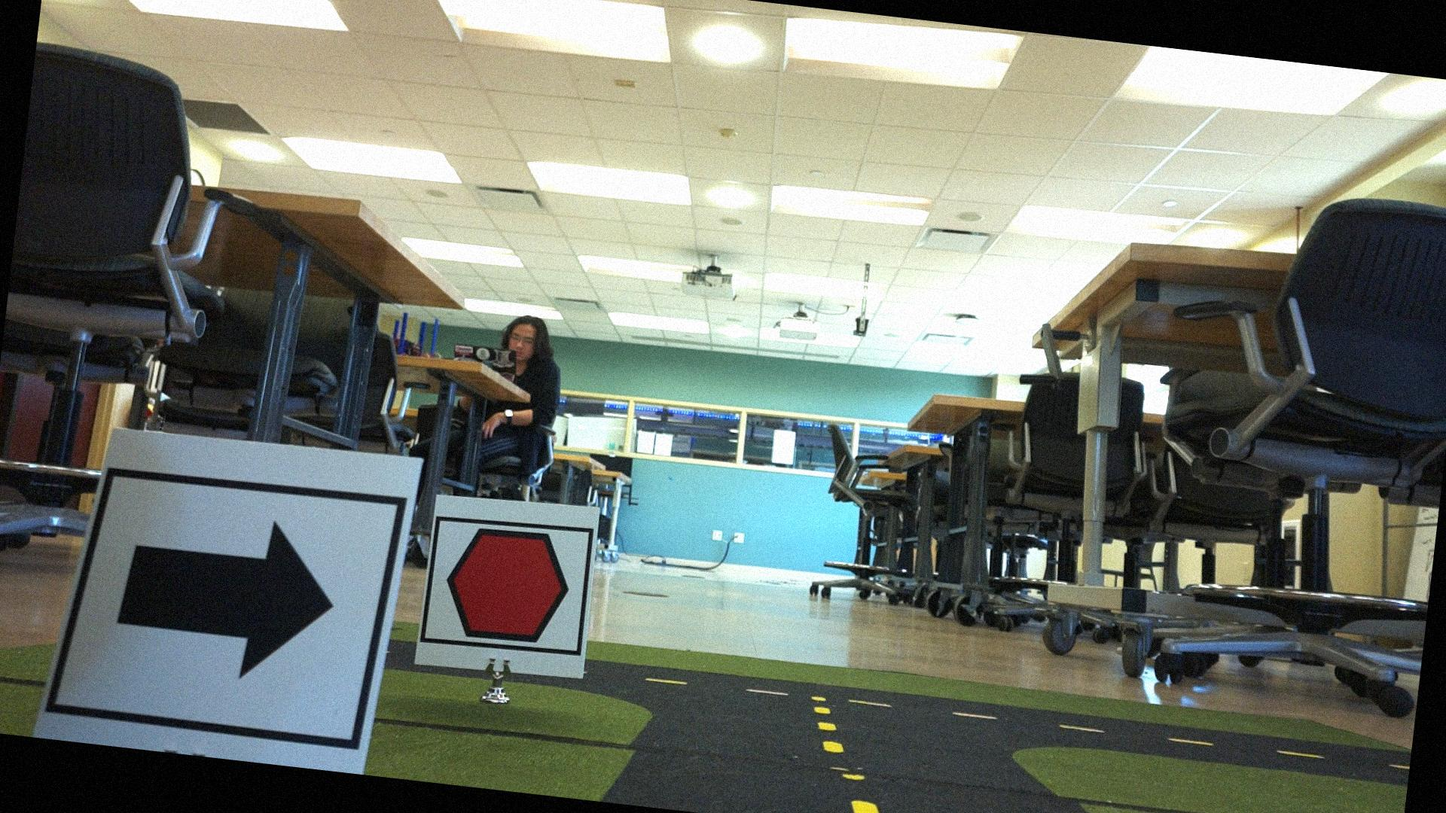stop: (424, 513, 597, 659)
turnright: (79, 472, 374, 742)
yellowline: (801, 702, 892, 812)
